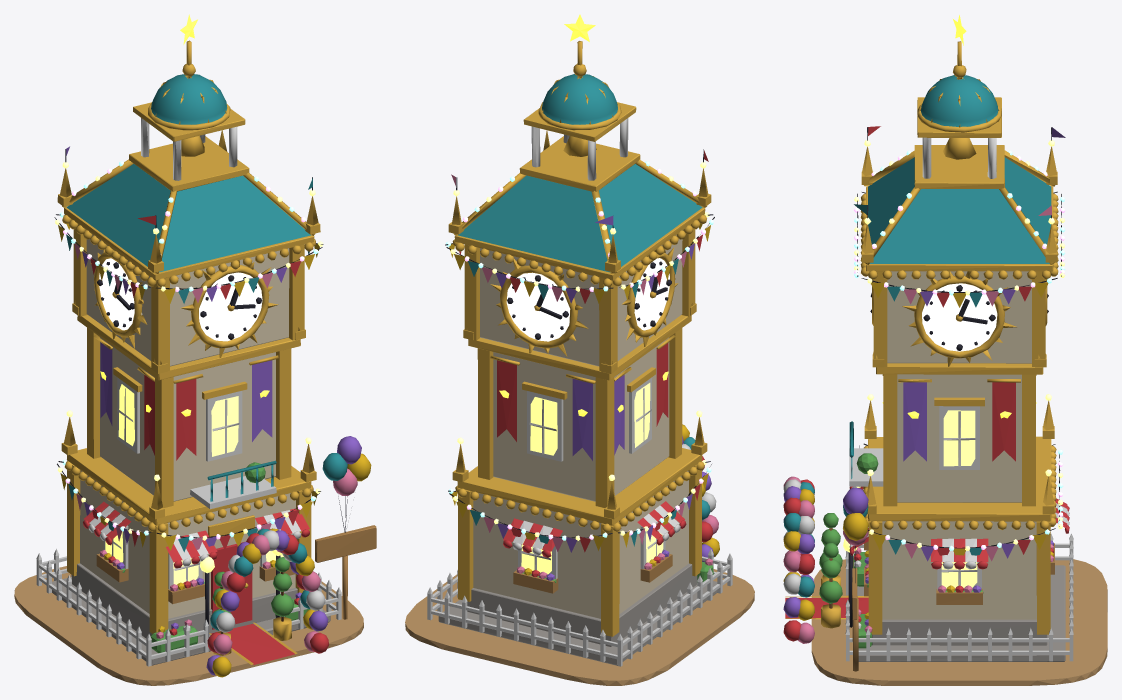
Rendered from clock-tower-stage-6-merged.455f6e7d.glb.
The picture shows the model from 3 angles, left to right: view 1: azimuth 30°, elevation 25°; view 2: azimuth 150°, elevation 25°; view 3: azimuth 270°, elevation 25°; orthographic projection.
Visible parts, largest first — view 1: ClockTower_Stage6__T_vcol, ClockTower_Stage6__G_clockface, ClockTower_Stage6__G_window, ClockTower_Stage6__G_bulb_warm, ClockTower_Stage6__G_bulb_cyan; view 2: ClockTower_Stage6__T_vcol, ClockTower_Stage6__G_clockface, ClockTower_Stage6__G_window, ClockTower_Stage6__G_bulb_warm, ClockTower_Stage6__G_bulb_cyan, ClockTower_Stage6__G_star_gold; view 3: ClockTower_Stage6__T_vcol, ClockTower_Stage6__G_clockface, ClockTower_Stage6__G_window, ClockTower_Stage6__G_bulb_warm, ClockTower_Stage6__G_bulb_cyan, ClockTower_Stage6__G_bulb_pink.
Boxes of the visible parts, x1=… form: ClockTower_Stage6__T_vcol: x1=14, y1=40, x2=376, y2=685; ClockTower_Stage6__G_clockface: x1=99, y1=258, x2=262, y2=341; ClockTower_Stage6__G_window: x1=105, y1=384, x2=283, y2=584; ClockTower_Stage6__G_bulb_warm: x1=55, y1=162, x2=323, y2=540; ClockTower_Stage6__G_bulb_cyan: x1=59, y1=161, x2=318, y2=540; ClockTower_Stage6__T_vcol: x1=405, y1=41, x2=754, y2=685; ClockTower_Stage6__G_clockface: x1=506, y1=258, x2=669, y2=341; ClockTower_Stage6__G_window: x1=521, y1=383, x2=663, y2=574; ClockTower_Stage6__G_bulb_warm: x1=450, y1=162, x2=709, y2=540; ClockTower_Stage6__G_bulb_cyan: x1=446, y1=161, x2=713, y2=540; ClockTower_Stage6__G_star_gold: x1=499, y1=14, x2=668, y2=416; ClockTower_Stage6__T_vcol: x1=783, y1=41, x2=1107, y2=685; ClockTower_Stage6__G_clockface: x1=922, y1=283, x2=997, y2=351; ClockTower_Stage6__G_window: x1=843, y1=410, x2=977, y2=588; ClockTower_Stage6__G_bulb_warm: x1=854, y1=140, x2=1065, y2=550; ClockTower_Stage6__G_bulb_cyan: x1=854, y1=150, x2=1065, y2=550; ClockTower_Stage6__G_bulb_pink: x1=854, y1=155, x2=1065, y2=549.
Size of the model in its own units: 4.96 by 10.87 by 5.24.
